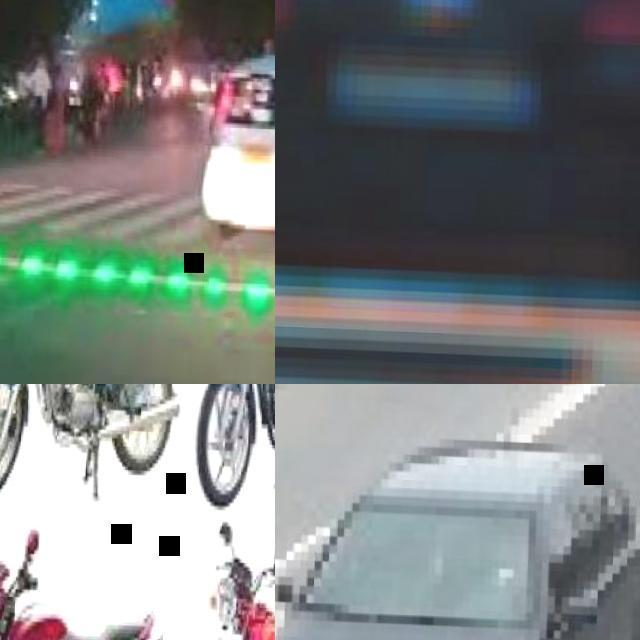car: (272, 446, 639, 639)
